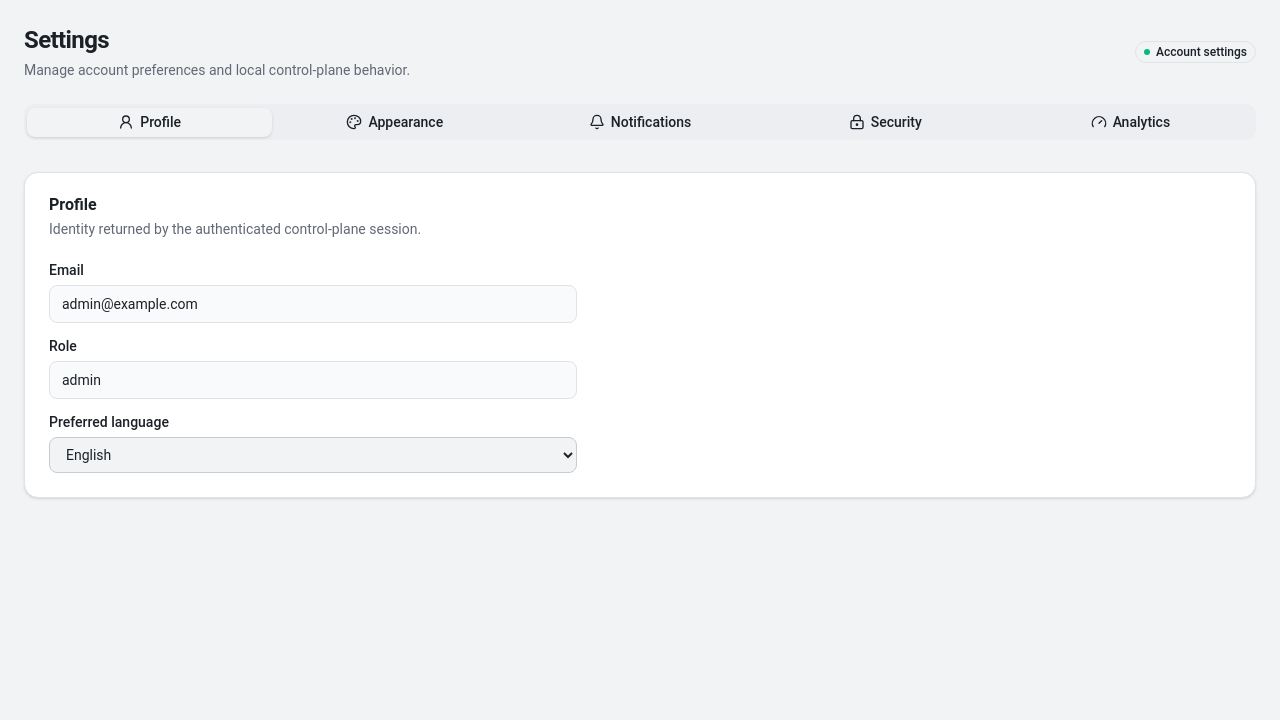
Test: account settings › saves notification choices and restores them after remount for the same account
Press the mouse on the tab "Notifications" at (640, 122), box [517, 108, 763, 136]
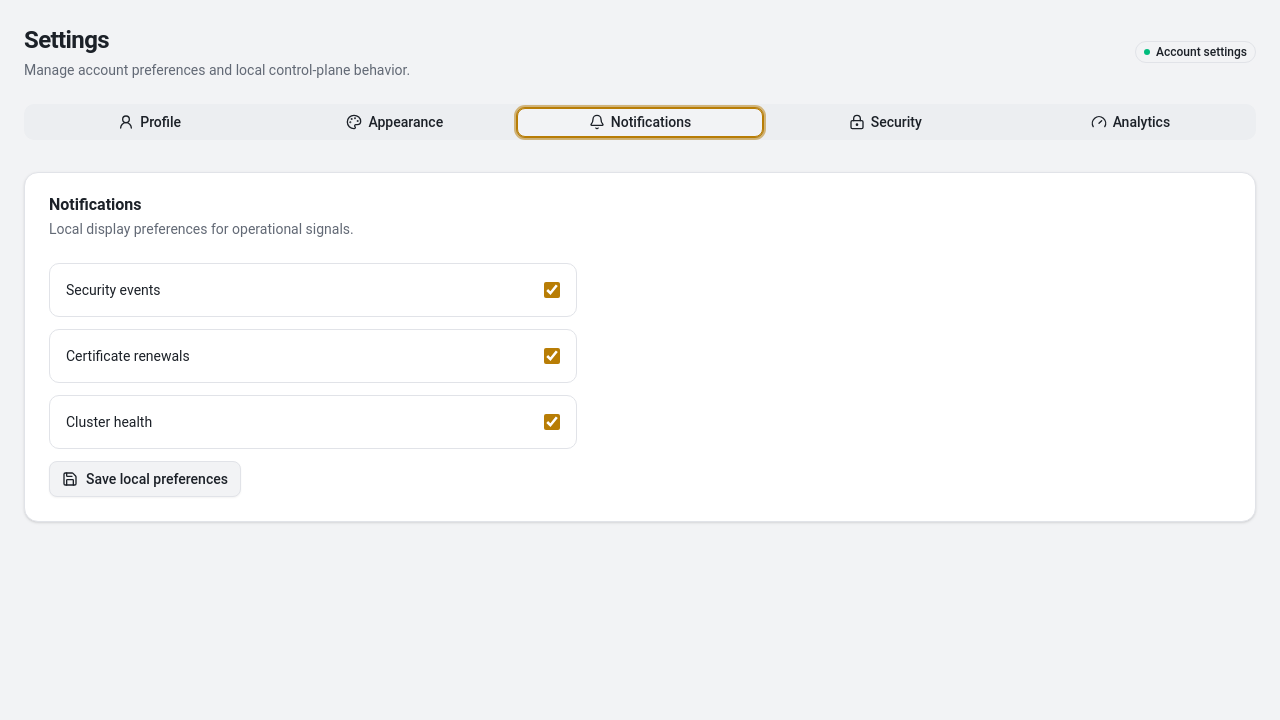
Click the checkbox labelled "Security events" at (552, 290), box [544, 282, 560, 298]
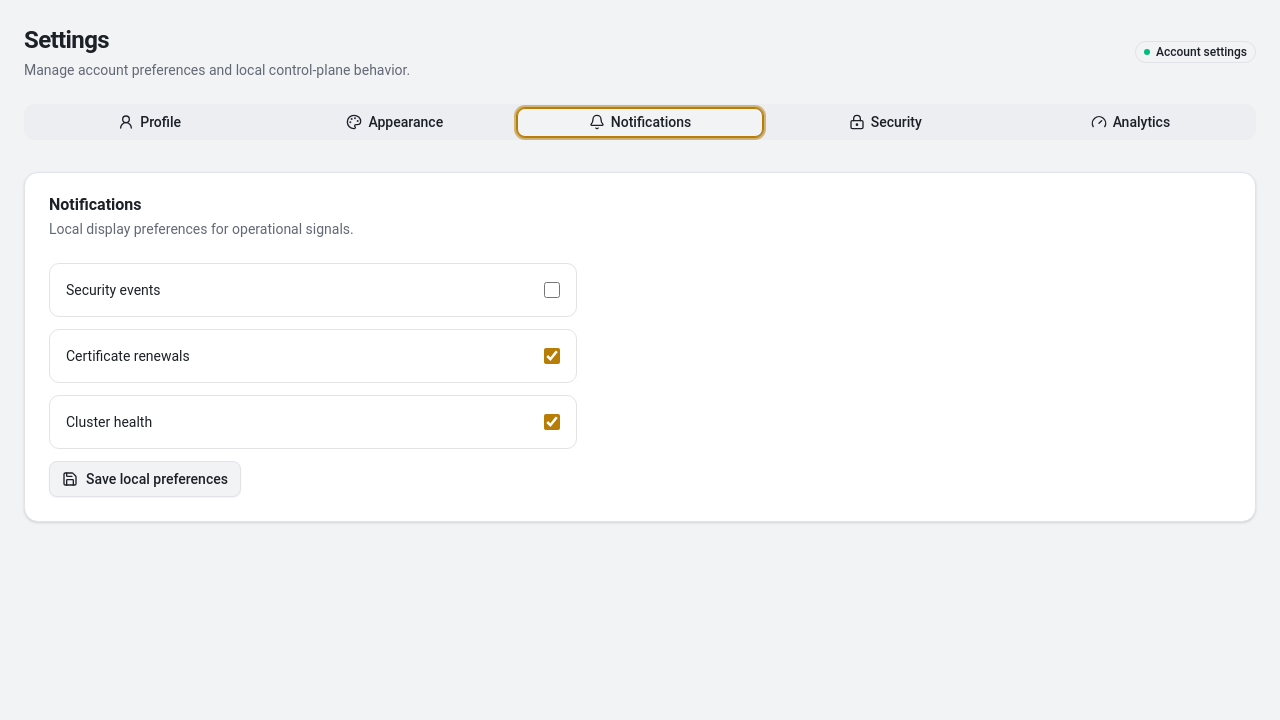
Click the button "Save local preferences" at (145, 479), box [49, 461, 241, 497]
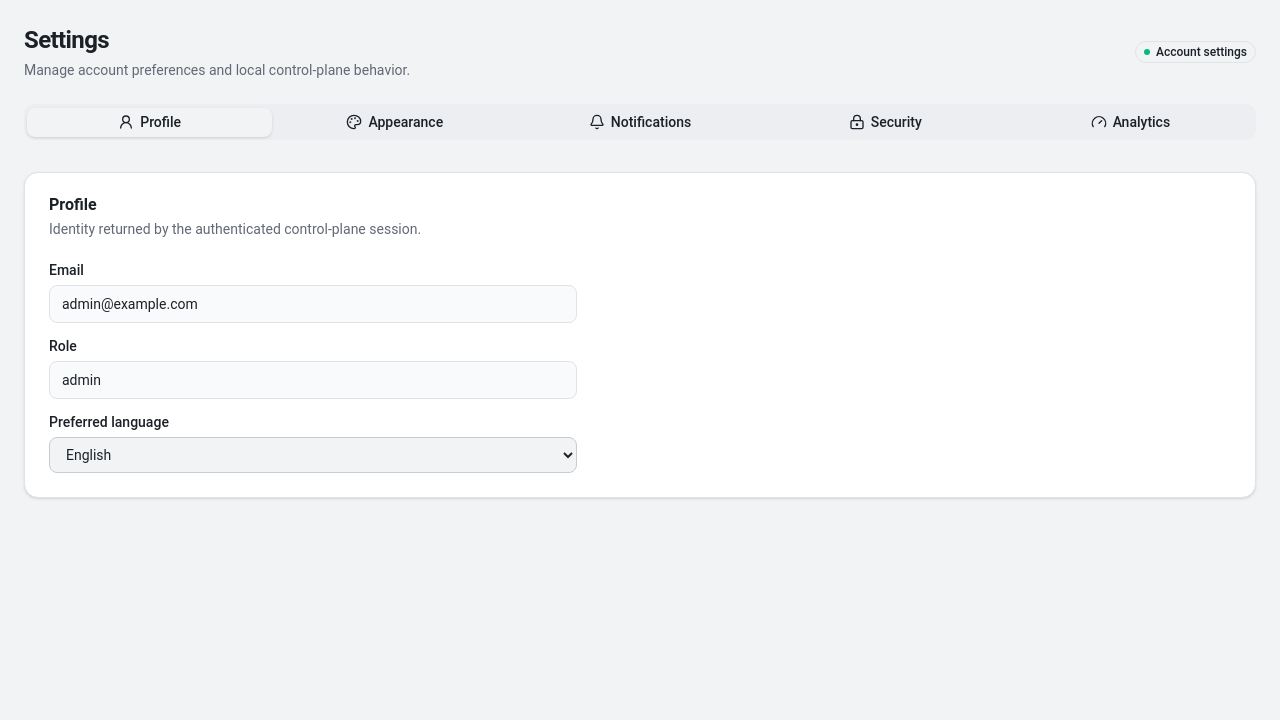
Press the mouse on the tab "Notifications" at (640, 122), box [517, 108, 763, 136]
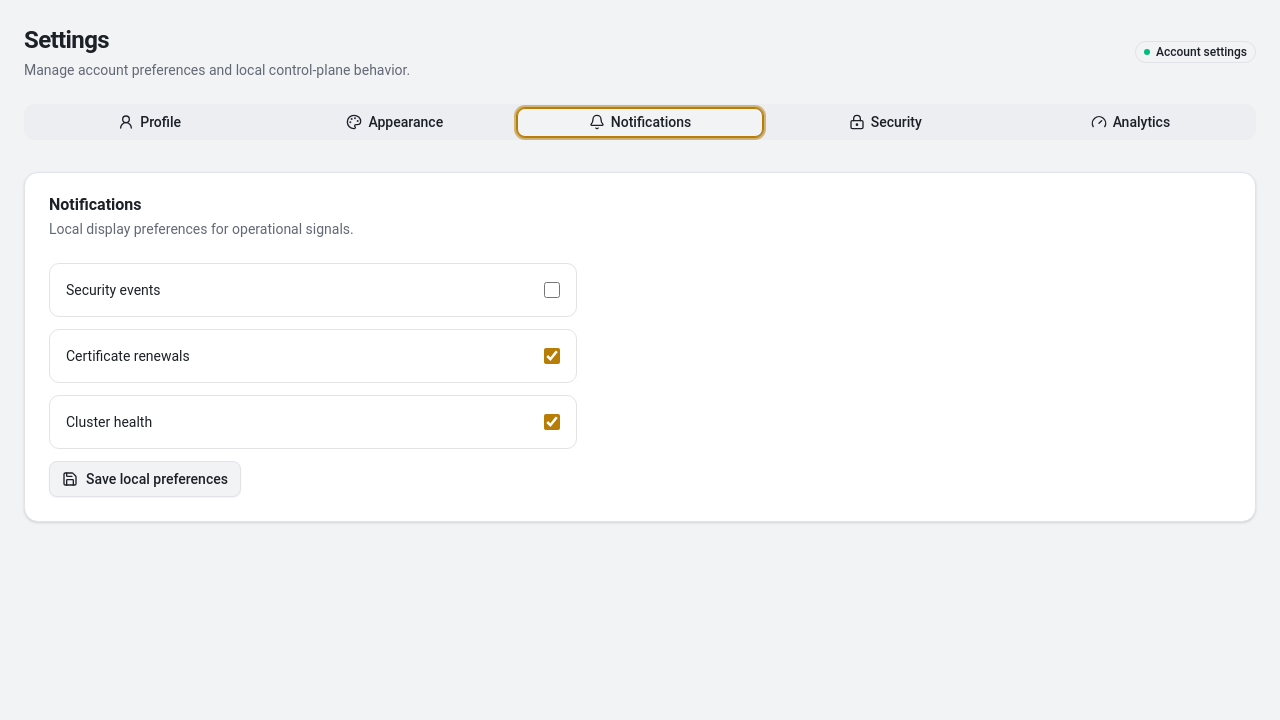
Check: the checkbox labelled "Security events" is not checked, box [544, 282, 560, 298]
